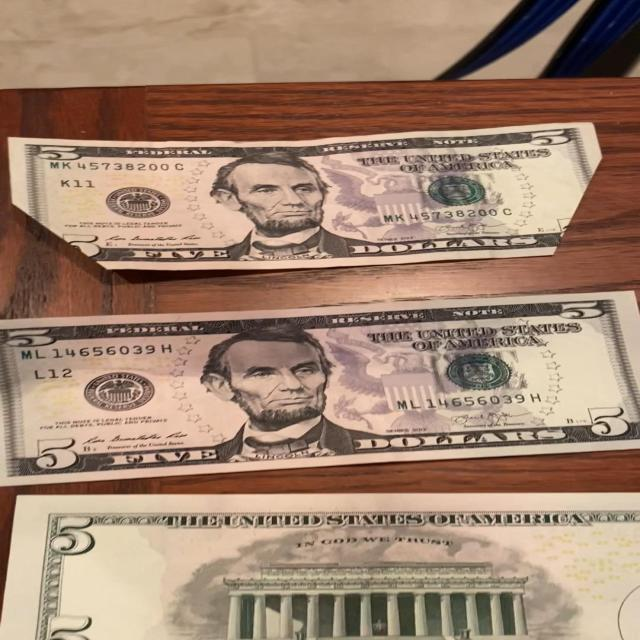5-Back: (0, 492, 639, 640)
5-Front: (0, 289, 640, 487), (0, 119, 603, 271)
